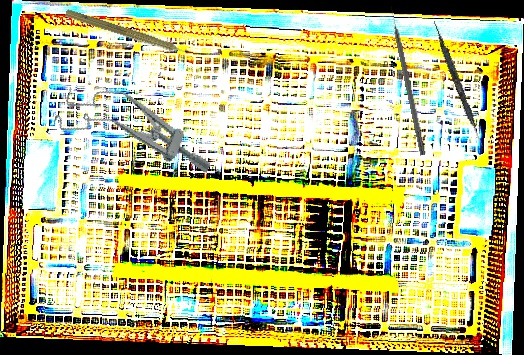Handpiece: (63, 7, 199, 64)
Hook Surgical: (388, 5, 428, 156)
Spatula Surgical: (428, 20, 489, 152)
Speculum: (52, 73, 223, 184)
